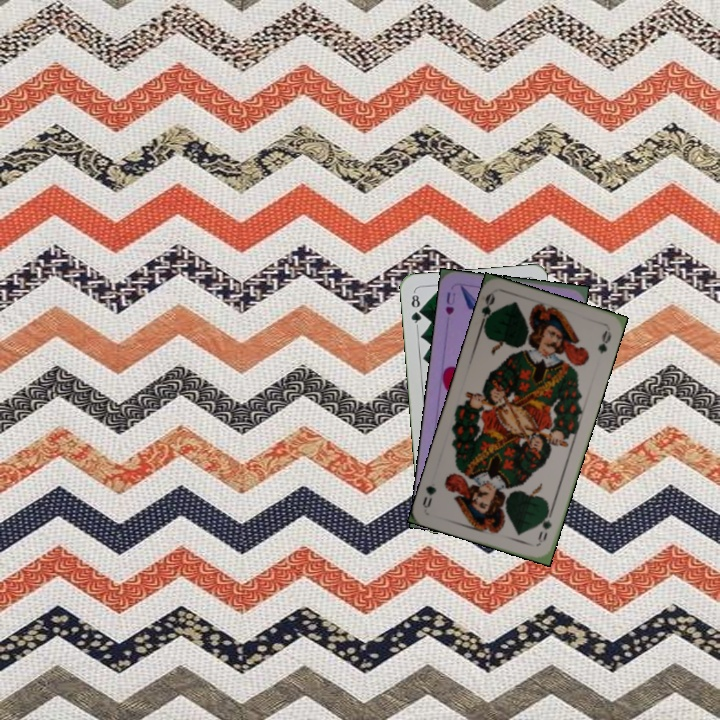G8: (407, 289, 425, 329)
GO: (476, 290, 499, 331), (534, 506, 555, 545)
HU: (442, 288, 458, 318)
